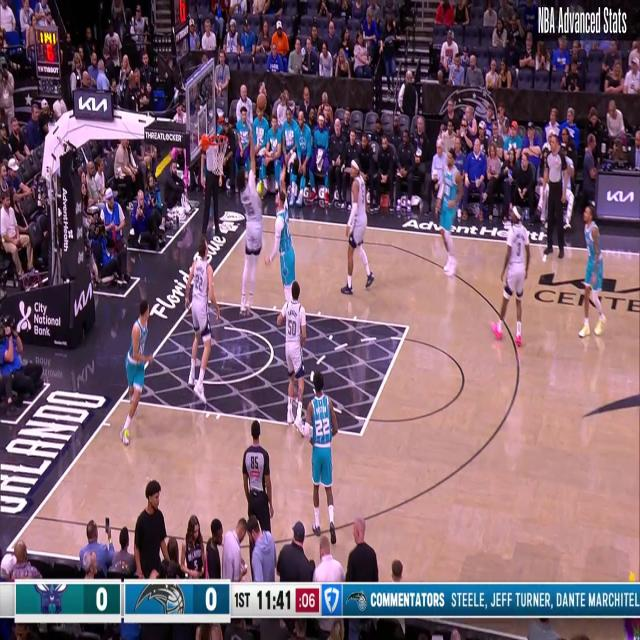ball: (254, 88, 270, 114)
judge: (239, 417, 281, 563), (541, 132, 568, 262), (201, 123, 228, 240)
player: (184, 234, 221, 403), (332, 159, 374, 305), (265, 172, 300, 344), (493, 199, 530, 342), (233, 157, 264, 323), (305, 384, 339, 526), (120, 298, 154, 440), (275, 285, 307, 413), (578, 204, 606, 337), (436, 143, 463, 278)
